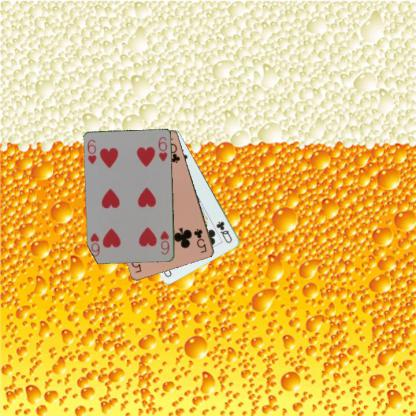5c: (191, 226, 208, 254)
6h: (85, 137, 98, 165), (158, 229, 170, 256)
Qc: (214, 219, 233, 244)
